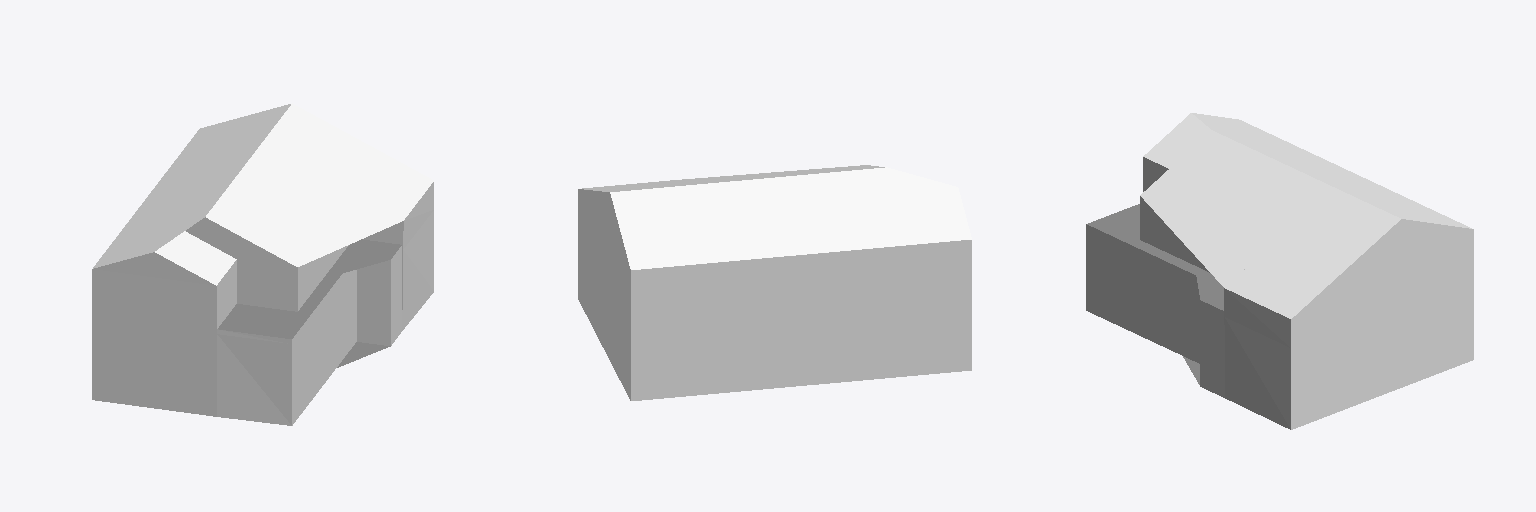
Rendered from house_Shape 252.obj.
3 renders of one model, left to right at view 1: azimuth 30°, elevation 25°; view 2: azimuth 150°, elevation 25°; view 3: azimuth 270°, elevation 25°, orthographic.
Visible parts, largest first — view 1: CityEngineMaterial, CityEngineMaterial_91, CityEngineMaterial_143, CityEngineMaterial_90, CityEngineMaterial_92; view 2: CityEngineMaterial, CityEngineMaterial_92, CityEngineMaterial_143, CityEngineMaterial_91; view 3: CityEngineMaterial, CityEngineMaterial_91, CityEngineMaterial_143, CityEngineMaterial_90, CityEngineMaterial_92.
Boxes of the visible parts, <box> form: CityEngineMaterial: <box>93,103,433,285</box>; CityEngineMaterial_91: <box>92,211,433,425</box>; CityEngineMaterial_143: <box>92,182,433,343</box>; CityEngineMaterial_90: <box>218,239,401,367</box>; CityEngineMaterial_92: <box>298,245,348,310</box>; CityEngineMaterial: <box>582,165,971,269</box>; CityEngineMaterial_92: <box>631,289,971,400</box>; CityEngineMaterial_143: <box>578,189,971,318</box>; CityEngineMaterial_91: <box>578,218,630,400</box>; CityEngineMaterial: <box>1140,113,1471,318</box>; CityEngineMaterial_91: <box>1086,229,1473,429</box>; CityEngineMaterial_143: <box>1086,157,1473,347</box>; CityEngineMaterial_90: <box>1087,204,1223,384</box>; CityEngineMaterial_92: <box>1140,196,1209,272</box>.
Size of the model in its own units: 21.16 by 9.28 by 19.28.